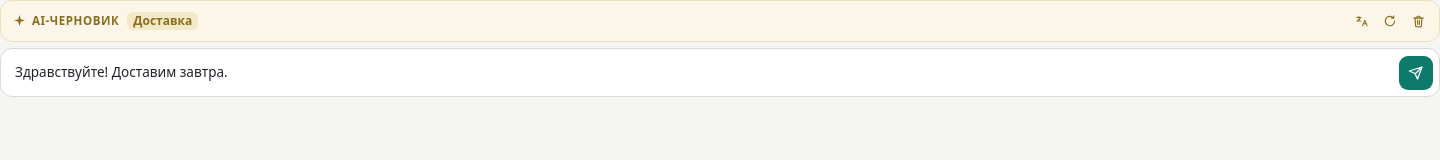
Scenario: Composer › translates the draft, restores the original and reuses the translation
Step 1. Click the button named "Перевести черновик" → click(1362, 21), box [1349,8,1375,34]
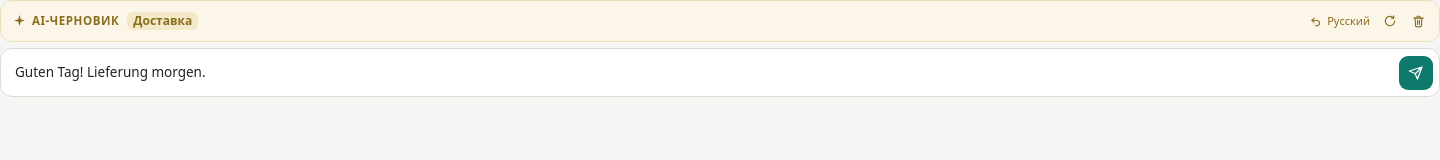
Expected: the text box named "ответ" holds "Guten Tag! Lieferung morgen.", [9,55,1391,90]
Step 2. Click the button with aria-label "Показать оригинал — Русский" → click(1340, 21), box [1304,8,1375,34]
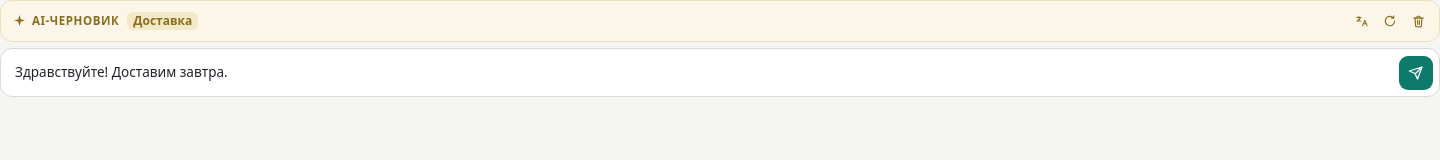
Expected: the text box named "ответ" holds "Здравствуйте! Доставим завтра.", [9,55,1391,90]
Step 3. Click the button named "Перевести черновик" → click(1362, 21), box [1349,8,1375,34]
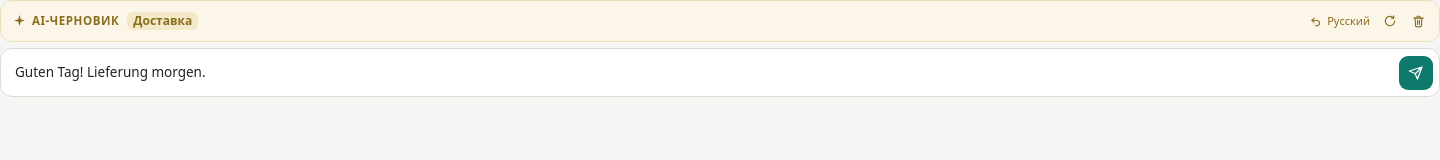
Expected: the text box named "ответ" holds "Guten Tag! Lieferung morgen.", [9,55,1391,90]
